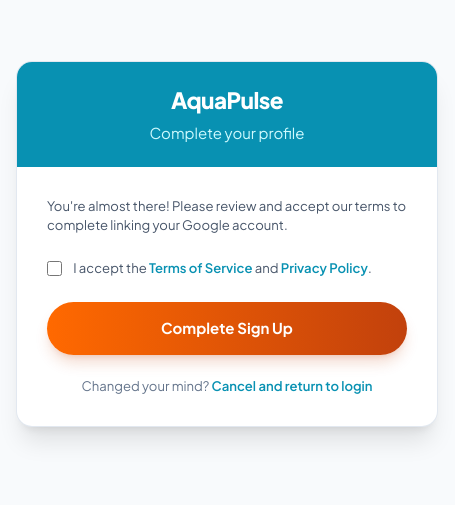
Test case: OAuthConsentPage › shows error if terms are not accepted
The width and height of the screenshot is (455, 505).
Click the button "Complete Sign Up" at x=227, y=328, box [47,302,407,355]
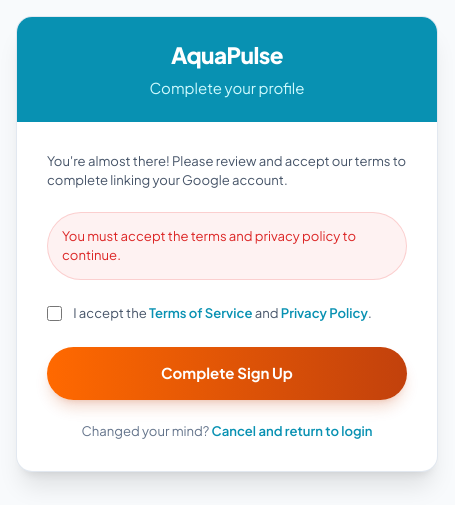
Now the text "You must accept the terms and privacy policy to continue." is shown, box [47,212,407,280]
